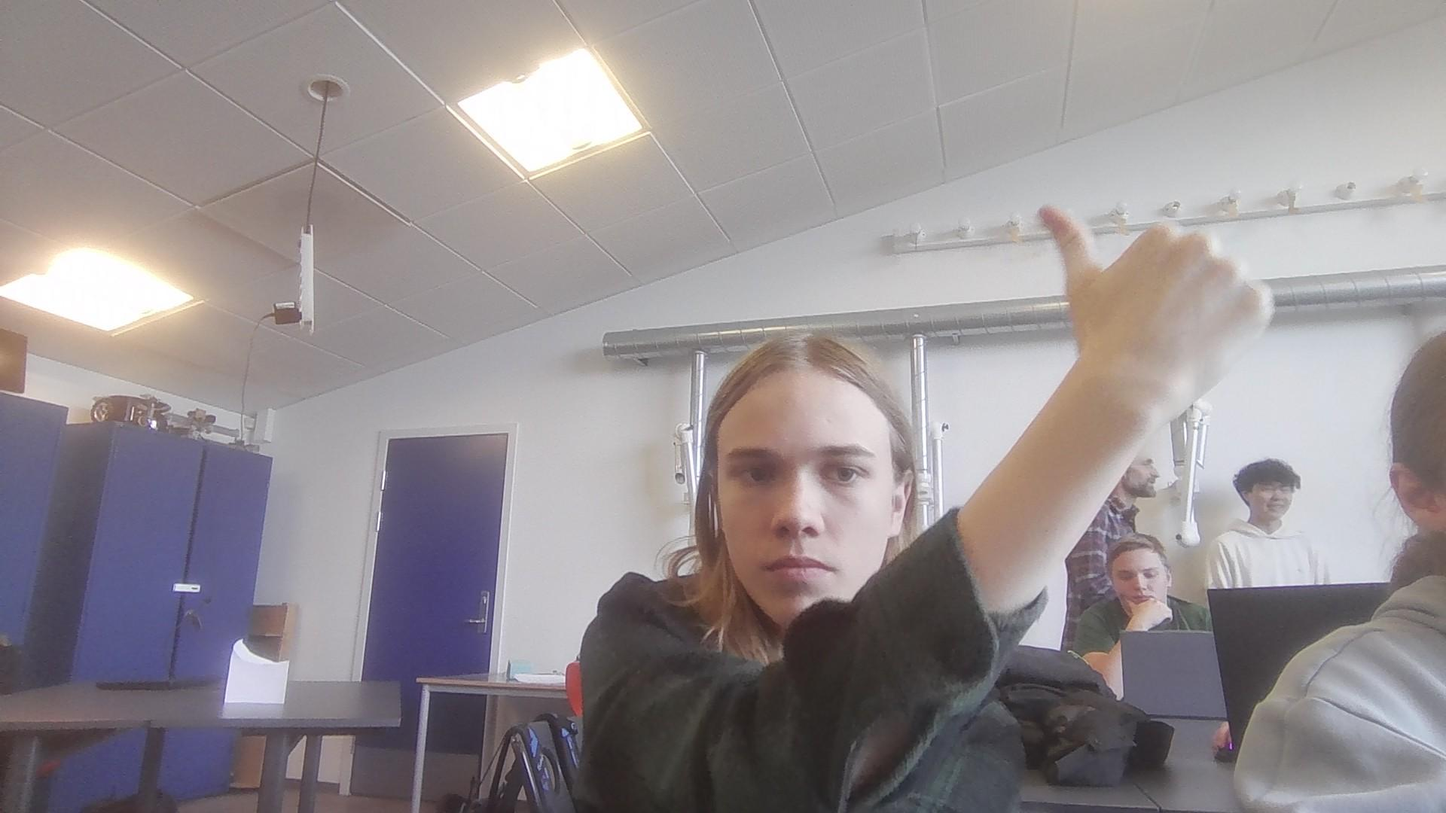thumbs up: (1026, 189, 1282, 416)
